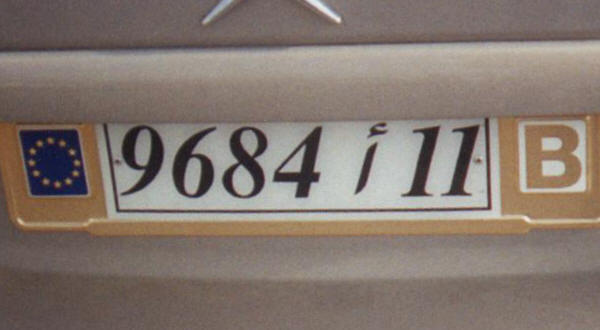number_plate: (5, 121, 600, 229)
